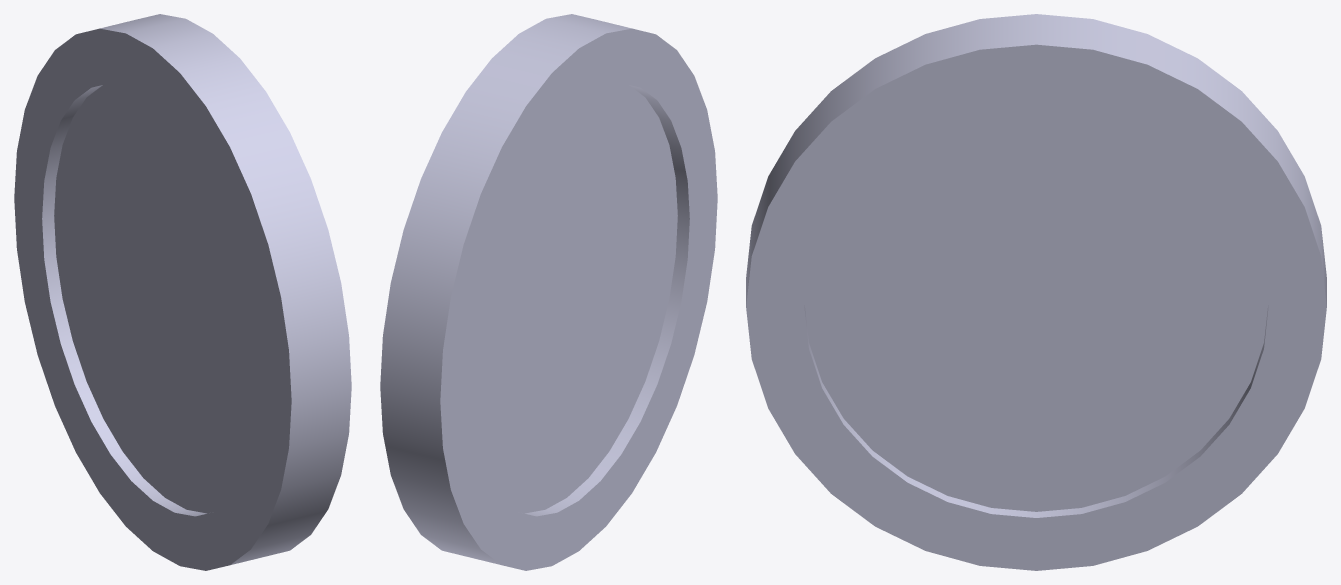
The model's file is coin.fbx.
The picture shows the model from 3 angles, left to right: view 1: azimuth 30°, elevation 25°; view 2: azimuth 150°, elevation 25°; view 3: azimuth 270°, elevation 25°; orthographic projection. The views are drawn at different scales.
Parts seen in each view (by area): view 1: Cylinder; view 2: Cylinder; view 3: Cylinder.
Boxes of the visible parts, box(x1,y1,x2,y2) form: Cylinder: box(14, 14, 351, 570); Cylinder: box(380, 14, 717, 570); Cylinder: box(746, 14, 1326, 570).
Size of the model in its own units: 25 by 200 by 200.
